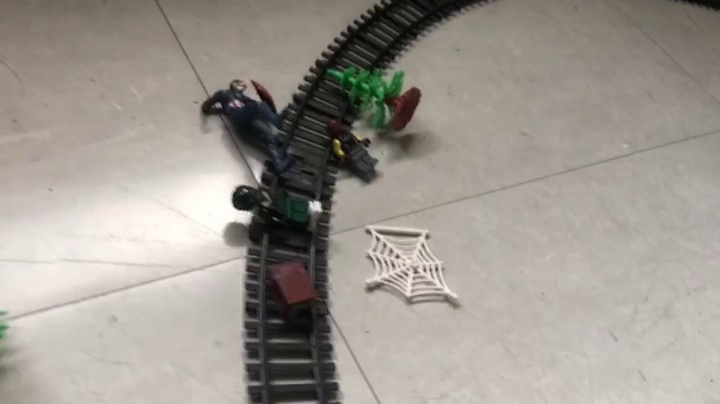box: (266, 258, 320, 328)
people: (201, 80, 299, 181), (230, 183, 325, 245), (324, 119, 381, 181)
tree: (326, 64, 422, 135)
web: (361, 222, 459, 307)
